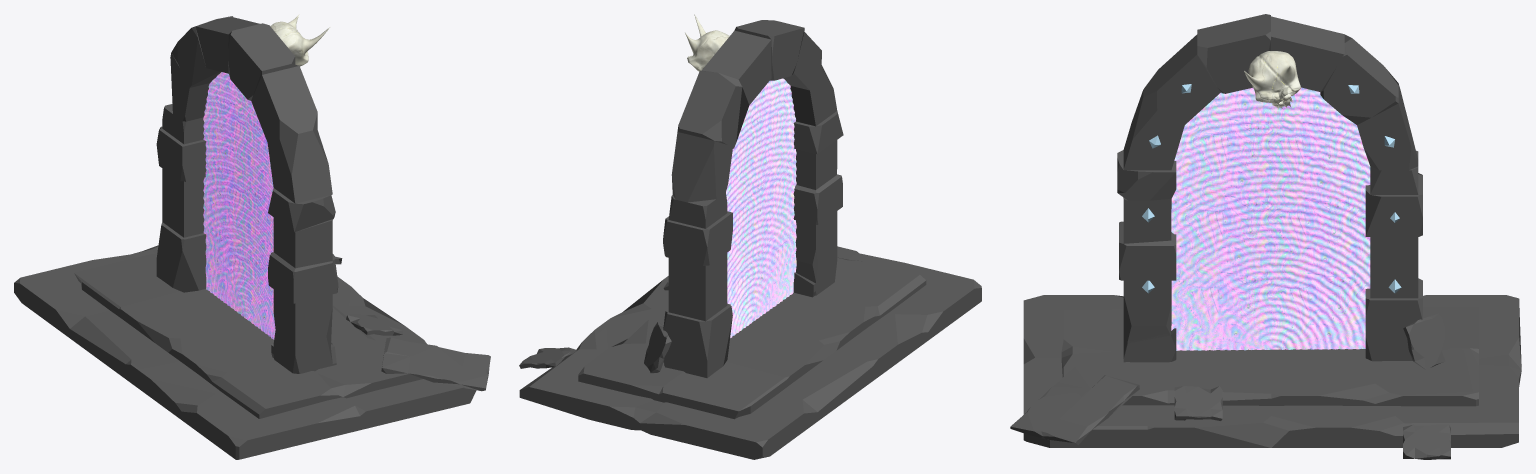
Rendered from portal.gltf.
The picture shows the model from 3 angles, left to right: view 1: azimuth 30°, elevation 25°; view 2: azimuth 150°, elevation 25°; view 3: azimuth 270°, elevation 25°; orthographic projection. The views are drawn at different scales.
Visible parts, largest first — view 1: Base (stone slabs), Portal, Plane (actual portal).001, Stone 2 Decimate 1.001, Skull, Stone 1 Decimate 1.001; view 2: Base (stone slabs), Portal, Plane (actual portal).001, Skull, Stone 1 Decimate 3, Stone 1 Decimate 1.002; view 3: Base (stone slabs), Plane (actual portal).001, Portal, Stone 2 Decimate 1.001, Skull, Stone 1 Decimate 3, Stone 1 Decimate 1.002, Stone 1 Decimate 1.001, Cube.001.
Boxes of the visible parts, x1=… form: Base (stone slabs): x1=14, y1=245, x2=476, y2=459; Portal: x1=156, y1=16, x2=338, y2=373; Plane (actual portal).001: x1=203, y1=72, x2=275, y2=339; Stone 2 Decimate 1.001: x1=381, y1=337, x2=490, y2=391; Skull: x1=270, y1=14, x2=330, y2=66; Stone 1 Decimate 1.001: x1=346, y1=314, x2=402, y2=335; Base (stone slabs): x1=519, y1=246, x2=981, y2=459; Portal: x1=663, y1=20, x2=843, y2=377; Plane (actual portal).001: x1=726, y1=78, x2=796, y2=337; Skull: x1=685, y1=14, x2=729, y2=71; Stone 1 Decimate 3: x1=644, y1=322, x2=671, y2=373; Stone 1 Decimate 1.002: x1=519, y1=347, x2=576, y2=368; Base (stone slabs): x1=1023, y1=295, x2=1521, y2=447; Plane (actual portal).001: x1=1171, y1=87, x2=1370, y2=350; Portal: x1=1117, y1=14, x2=1422, y2=362; Stone 2 Decimate 1.001: x1=1010, y1=367, x2=1139, y2=445; Skull: x1=1244, y1=51, x2=1300, y2=109; Stone 1 Decimate 3: x1=1403, y1=313, x2=1450, y2=369; Stone 1 Decimate 1.002: x1=1403, y1=424, x2=1450, y2=459; Stone 1 Decimate 1.001: x1=1174, y1=386, x2=1222, y2=420; Cube.001: x1=1142, y1=84, x2=1401, y2=293.
Bounding box in the file's own units: 0.5732 × 0.6376 × 0.826.
5 materials, 1 textured.
